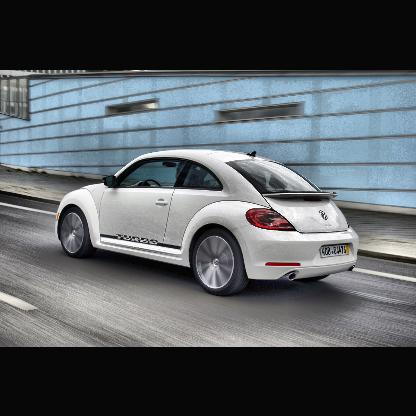Volkswagen Beetle Hatchback 2012: (58, 149, 359, 295)
